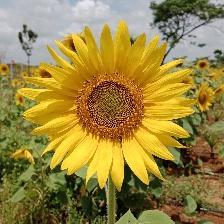sunflower: (17, 21, 202, 193), (59, 30, 89, 57), (194, 84, 217, 113), (35, 61, 59, 82), (15, 91, 30, 106), (180, 75, 195, 89), (1, 62, 12, 79), (197, 59, 210, 73), (214, 84, 224, 98), (21, 71, 30, 81), (12, 78, 19, 90), (19, 80, 27, 89), (31, 72, 38, 79), (222, 67, 224, 76)
